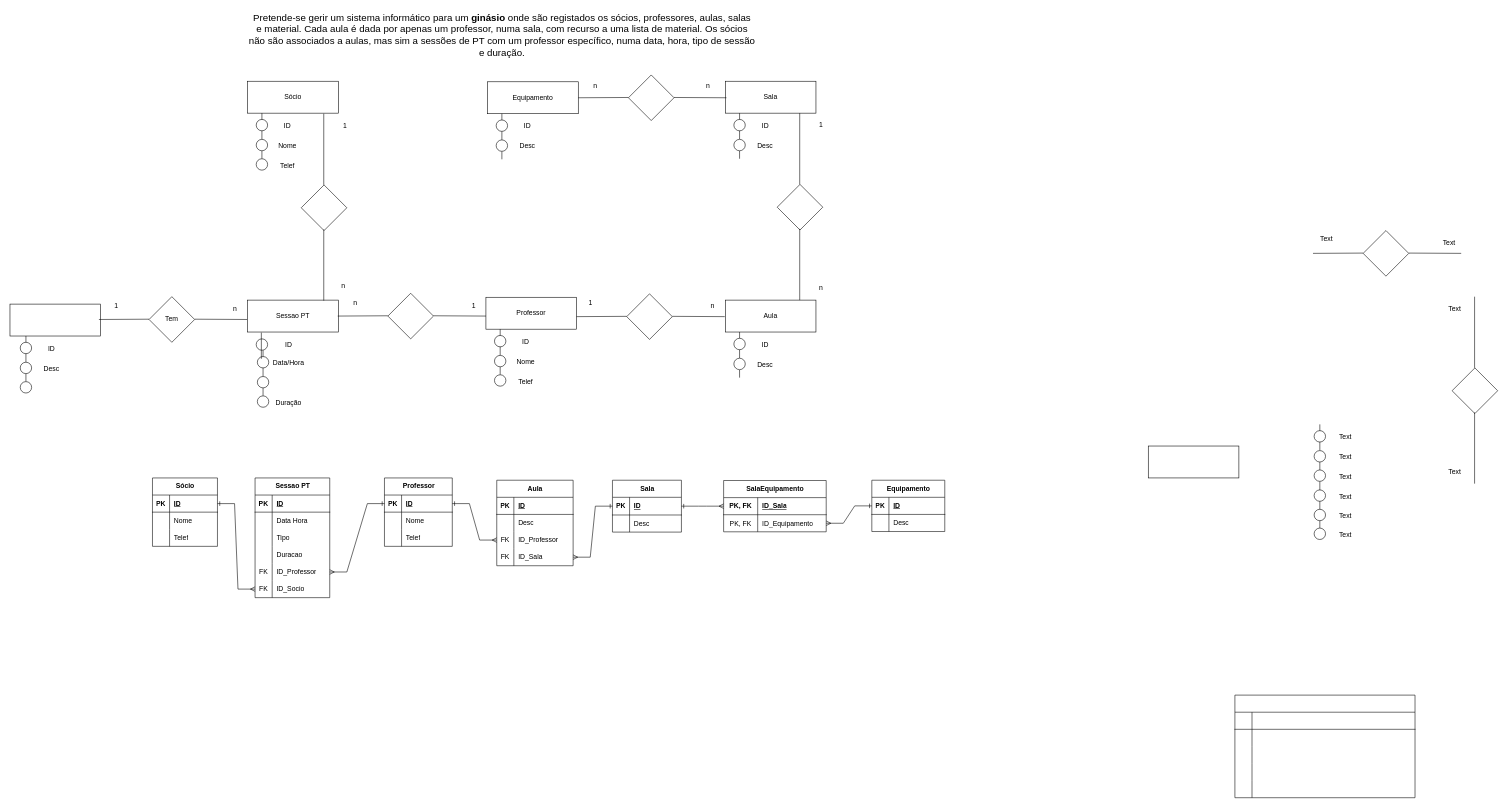
The diagram is 1508 pixels wide and 808 high, and some of its shapes have lost their labels. The shapes that lost their labels are listed below. From the top down, each one's centre as x and y in pixels, then its label:
At point 651,97: "Usar".
At point 324,207: "Participa".
At point 800,207: "Ocorre".
At point 55,320: "Tipo Sessao".
At point 410,316: "Dar".
At point 649,316: "Leciona".
